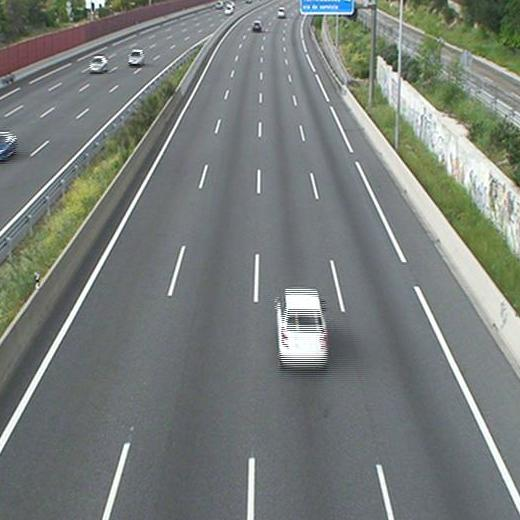car: (276, 289, 327, 365), (252, 20, 261, 33), (276, 8, 286, 18)
